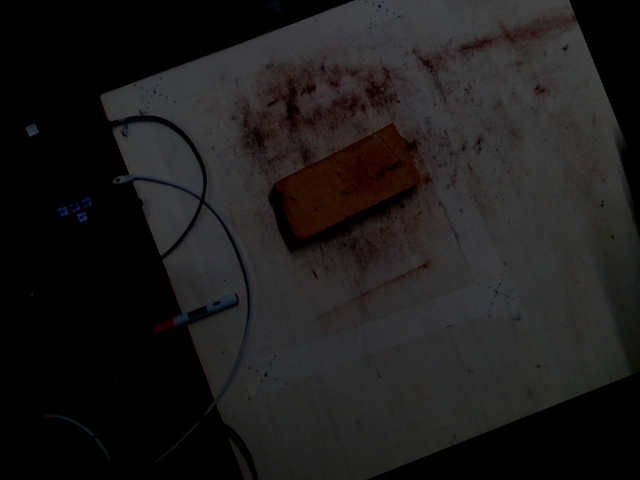brick: (271, 124, 418, 239)
